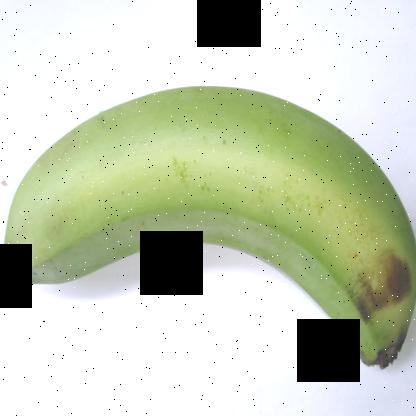freshunripe: (1, 68, 415, 391)
